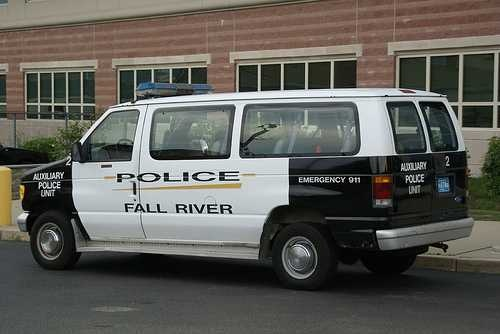Police Van: (17, 75, 482, 298)
